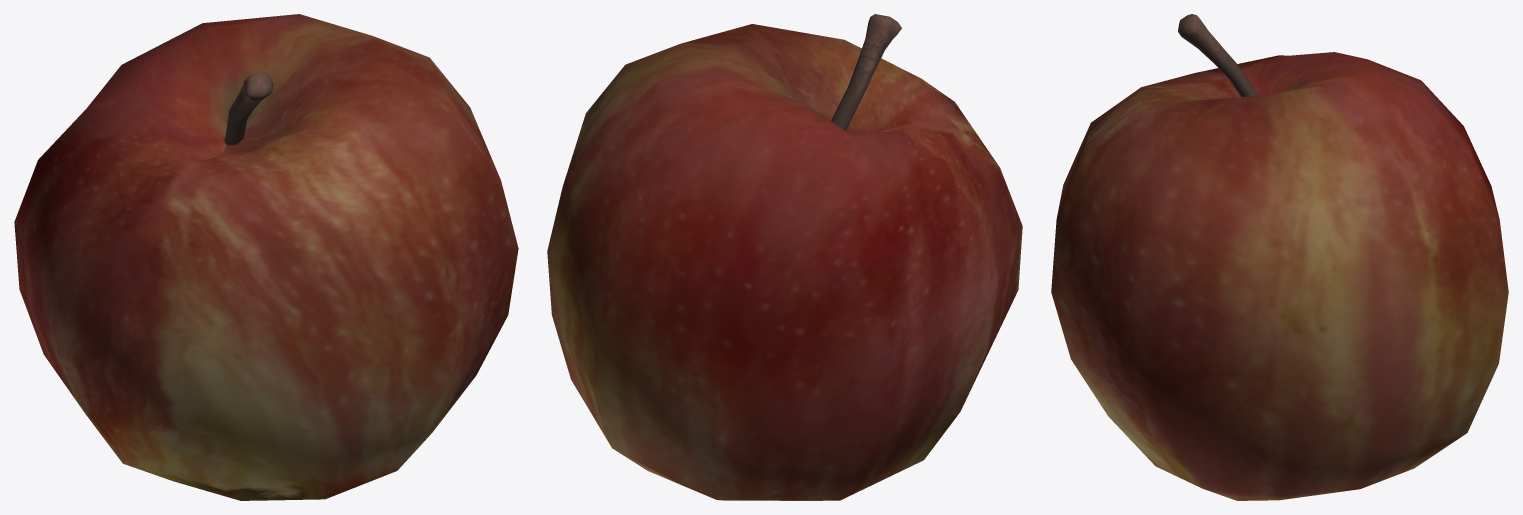
Rendered from apple.fbx.
3 views of the same model, side by side, from view 1: azimuth 30°, elevation 25°; view 2: azimuth 150°, elevation 25°; view 3: azimuth 270°, elevation 25° (orthographic). The views are drawn at different scales.
Parts seen in each view (by area): view 1: pSphere1, polySurface4; view 2: pSphere1, polySurface4; view 3: pSphere1, polySurface4.
Part boxes in pixels (x1,y1,x2,y2): pSphere1: [14, 14, 518, 500]; polySurface4: [224, 71, 273, 145]; pSphere1: [547, 24, 1022, 500]; polySurface4: [831, 14, 901, 130]; pSphere1: [1051, 52, 1508, 500]; polySurface4: [1178, 14, 1258, 96].
Bounding box in the file's own units: 4.78 × 4.63 × 4.56.
1 material, 1 textured.
